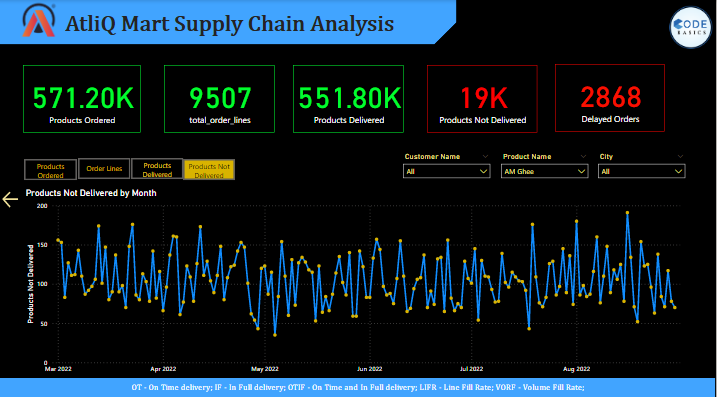

What the dashboard file says about the page in this screenshot:
{"tool":"powerbi","page":{"name":"product page","canvas":[1350,750],"ordinal":2},"visuals":[{"type":"shape","box":[0,0,860.9,84.4],"z":0},{"type":"slicer","fields":{"Values":["dim_customers.customer_name"]},"box":[749.8,281.2,183.8,55.9],"z":0,"group":"g1"},{"type":"slicer","fields":{"Values":["dim_customers.city"]},"box":[1117.5,281.2,183.8,55.9],"z":1000,"group":"g1"},{"type":"card","fields":{"Values":["base_measures.Total_Ordered_qty"]},"box":[43.4,122.6,222.5,128.2],"z":1000},{"type":"slicer","fields":{"Values":["dim_products.product_name"]},"box":[933.6,281.2,183.8,55.9],"z":2000,"group":"g1"},{"type":"textbox","box":[117,16.5,643.5,67.5],"z":2000},{"type":"card","fields":{"Values":["base_measures.total_order_lines"]},"box":[309.2,122.6,209.3,128.2],"z":3000},{"type":"image","box":[0,0,147,73.5],"z":4000},{"type":"card","fields":{"Values":["base_measures.Orders_not_dileverd"]},"box":[804.7,121.9,207.8,128.1],"z":5000},{"type":"image","box":[1253.1,0,96.9,101.6],"z":6000},{"type":"actionButton","box":[0,355.8,47.2,39.9],"z":7000},{"type":"shape","box":[0,713.1,1349.4,36.9],"z":8000},{"type":"card","fields":{"Values":["base_measures.Total_Deliverd_qty"]},"box":[551.6,121.9,209.4,128.1],"z":10000},{"type":"group","id":"g1","title":"Group 1","box":[749.8,281.2,551.5,55.9],"z":11000},{"type":"actionButton","box":[45.2,299.5,99.8,40.4],"z":12000},{"type":"actionButton","box":[148,298.7,98.9,39.9],"z":13000},{"type":"actionButton","box":[246.9,298.7,98.9,39.9],"z":14000},{"type":"actionButton","box":[345,299.3,98,39.6],"z":19000},{"type":"card","fields":{"Values":["base_measures.NOT"]},"box":[1045.8,121.2,206.8,128.3],"z":21000},{"type":"lineChart","fields":{"Category":["dim_date.date Hierarchy.Month"],"Y":["base_measures.Orders_not_dileverd"]},"box":[42.8,354.1,1259.7,358.9],"z":23000}]}

Visuals, with their boxes in screenshot pixels (x1, y1, x2, y2), scaled from the page's 1350x750 canvas onto the 717x397 screenshot:
shape: 0, 0, 457, 45
slicer - dim_customers.customer_name: 398, 149, 496, 178
slicer - dim_customers.city: 594, 149, 691, 178
card - base_measures.Total_Ordered_qty: 23, 65, 141, 133
slicer - dim_products.product_name: 496, 149, 593, 178
textbox: 62, 9, 404, 44
card - base_measures.total_order_lines: 164, 65, 275, 133
image: 0, 0, 78, 39
card - base_measures.Orders_not_dileverd: 427, 65, 538, 132
image: 666, 0, 716, 54
actionButton: 0, 188, 25, 209
shape: 0, 377, 716, 396
card - base_measures.Total_Deliverd_qty: 293, 65, 404, 132
"Group 1" group: 398, 149, 691, 178
actionButton: 24, 159, 77, 180
actionButton: 79, 158, 131, 179
actionButton: 131, 158, 184, 179
actionButton: 183, 158, 235, 179
card - base_measures.NOT: 555, 64, 665, 132
lineChart - dim_date.date Hierarchy.Month x base_measures.Orders_not_dileverd: 23, 187, 692, 377
